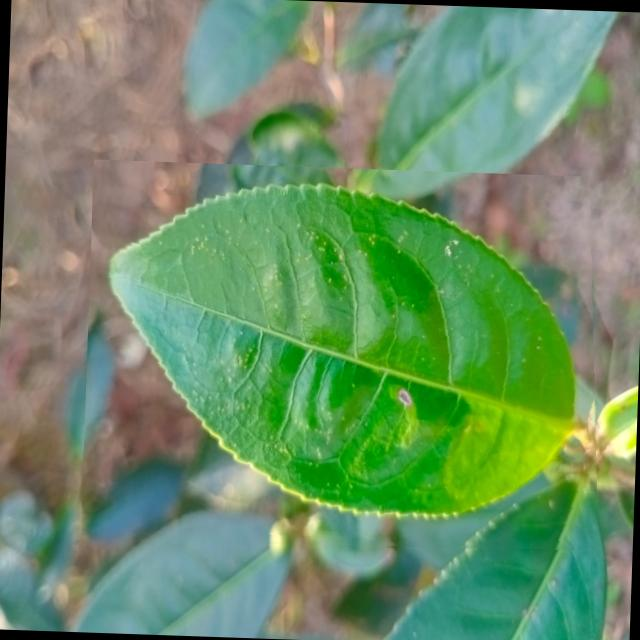Category D(7+ days, Not for Tea): (80, 158, 611, 557)
